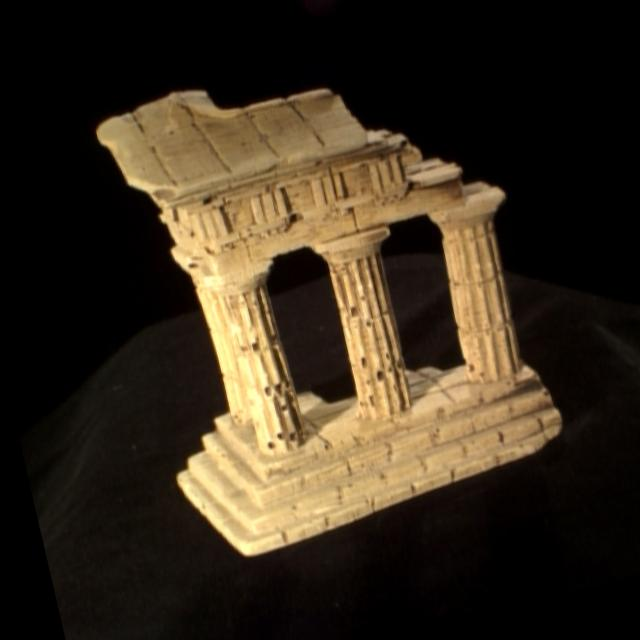Instance-Segmentation: (97, 87, 559, 553)
